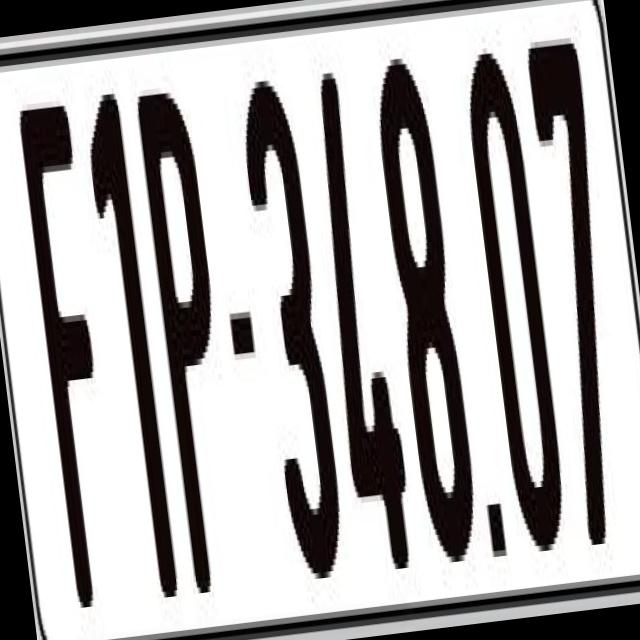0: (455, 32, 577, 572)
1: (77, 87, 184, 618)
3: (234, 77, 356, 592)
4: (297, 58, 418, 596)
7: (520, 36, 638, 540)
8: (368, 43, 488, 564)
F: (15, 104, 131, 632)
P: (134, 78, 250, 600)
